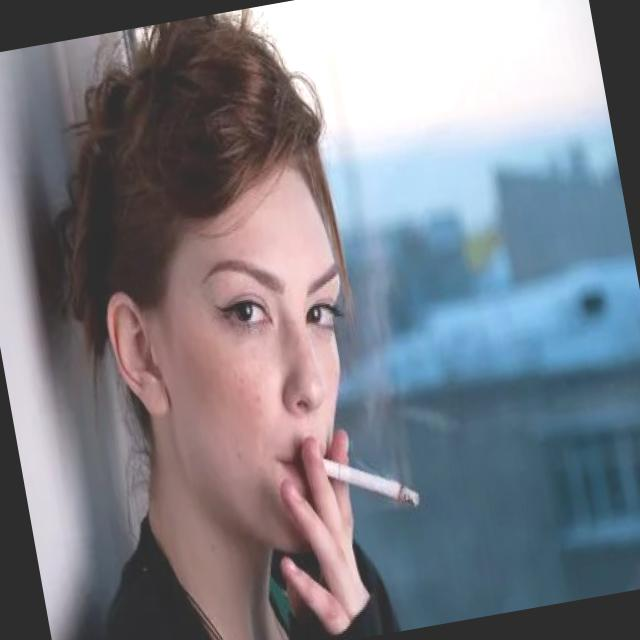smoke: (308, 438, 424, 530)
